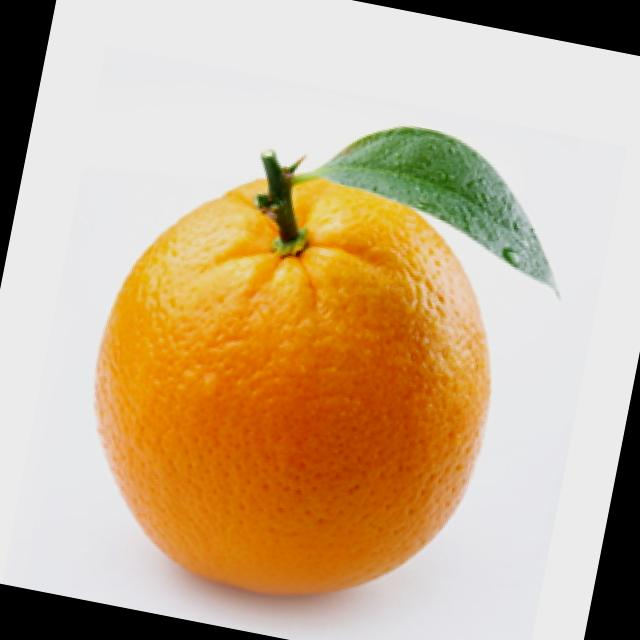orange: (68, 138, 534, 639)
